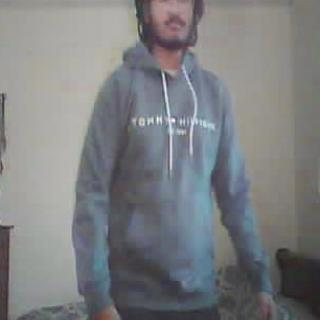Blue Hoodie: (75, 37, 268, 306)
Navy Sweatpants: (124, 309, 218, 320)
